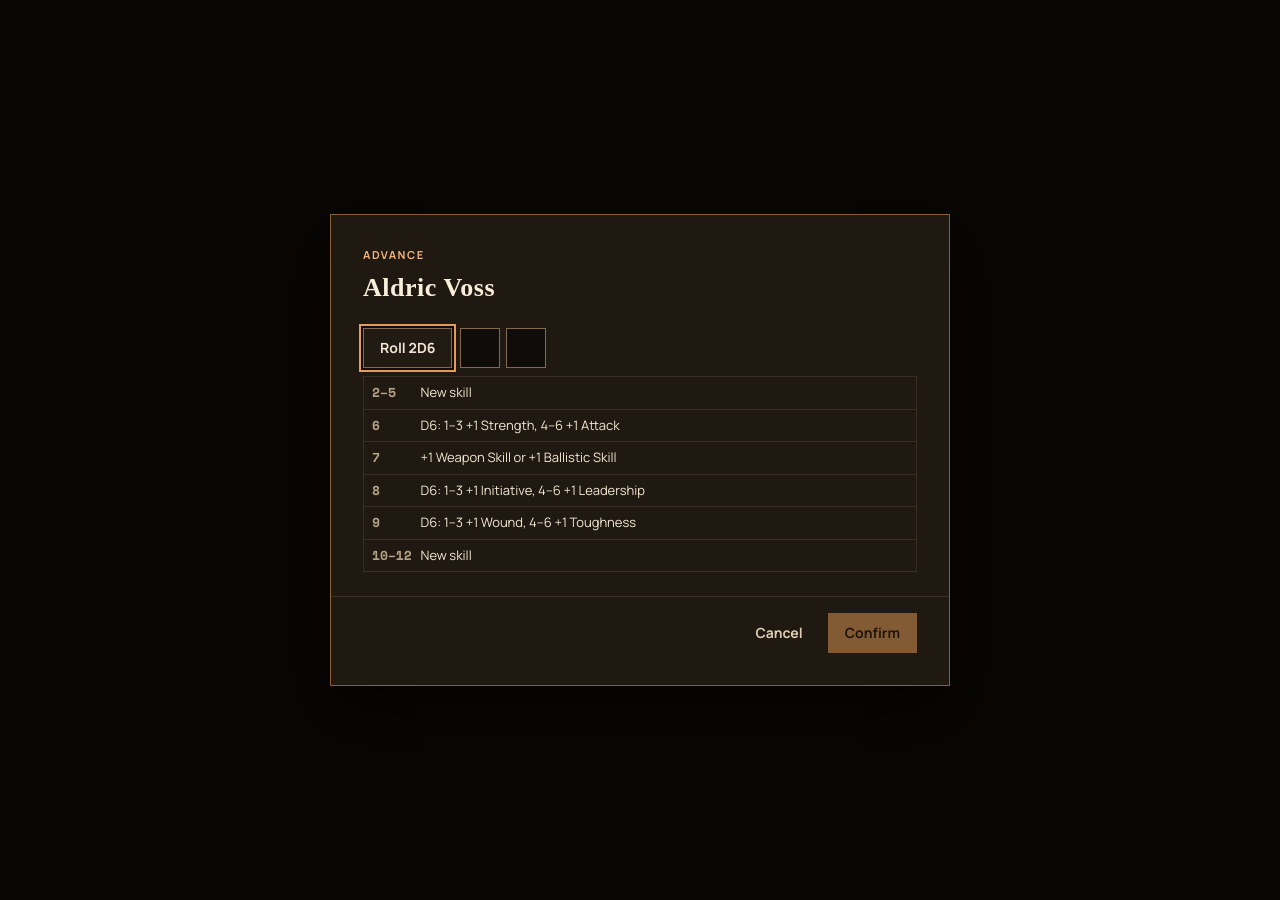
Scenario: An advance on a written stat › shows the whole written value before and after, and that only its first number goes up
The width and height of the screenshot is (1280, 900).
Type "3" into the field named "First D6 rolled" at x=480, y=348, box [460, 328, 500, 368]
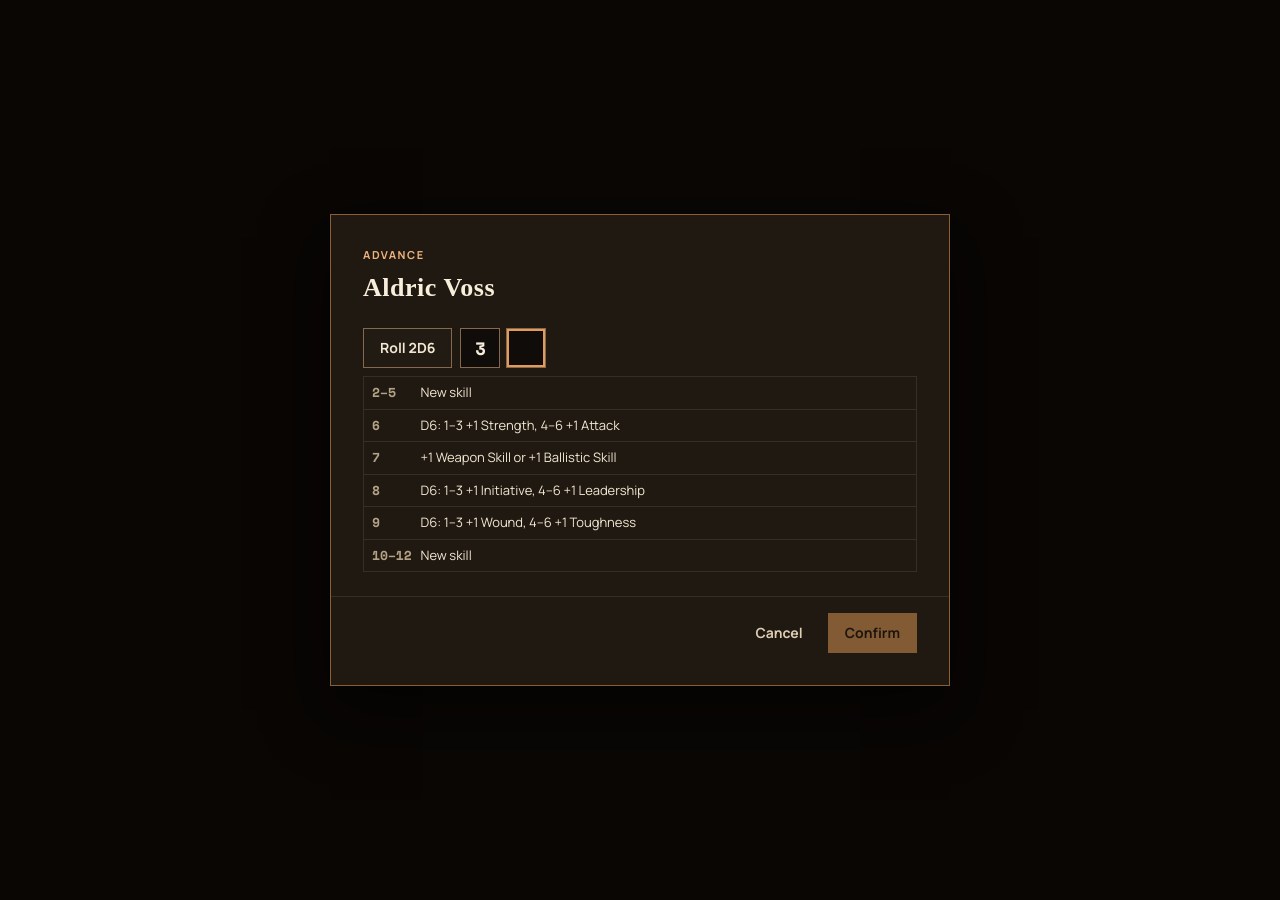
Type keys "3"
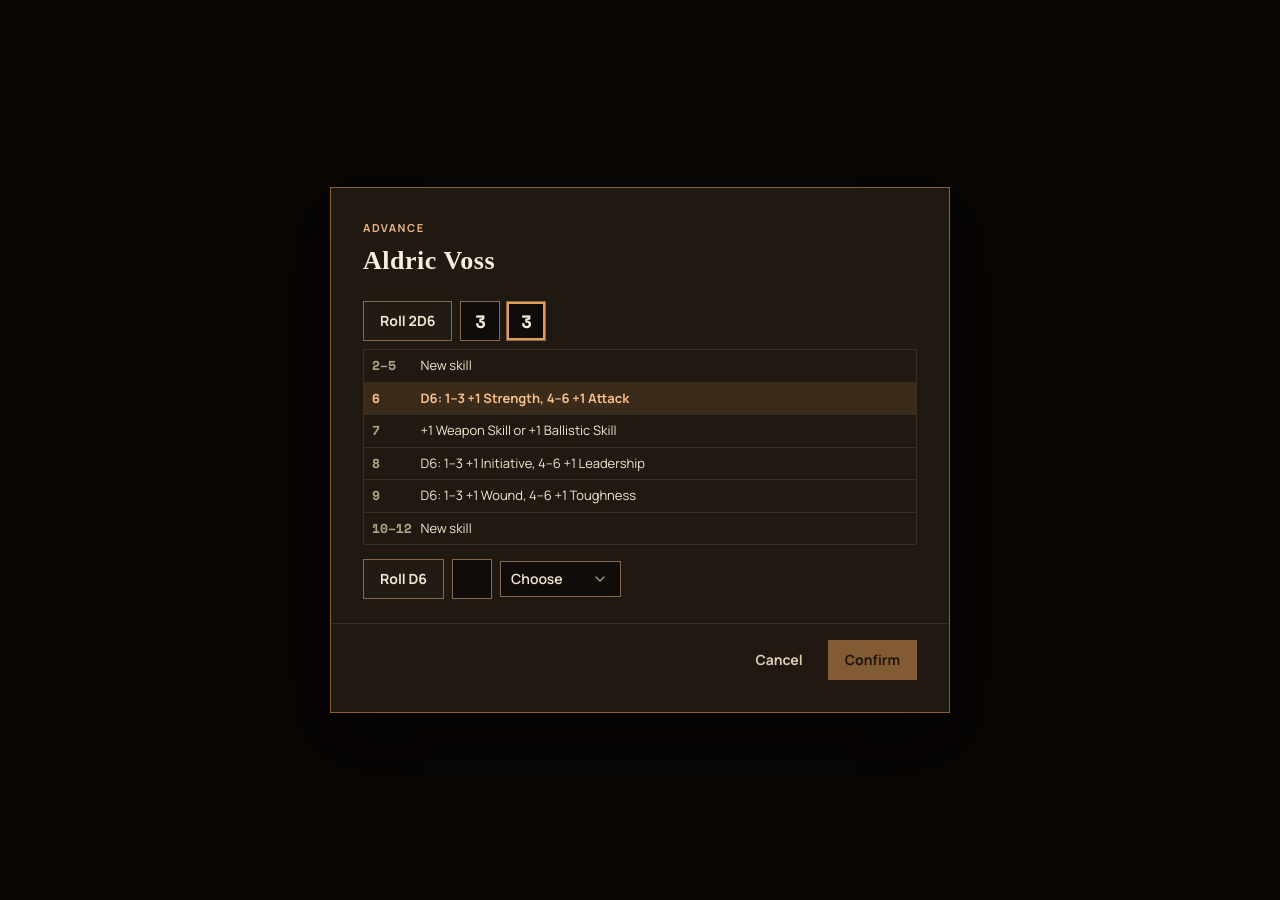
Type "5" into the field named "D6 rolled" at x=472, y=579, box [452, 559, 492, 599]
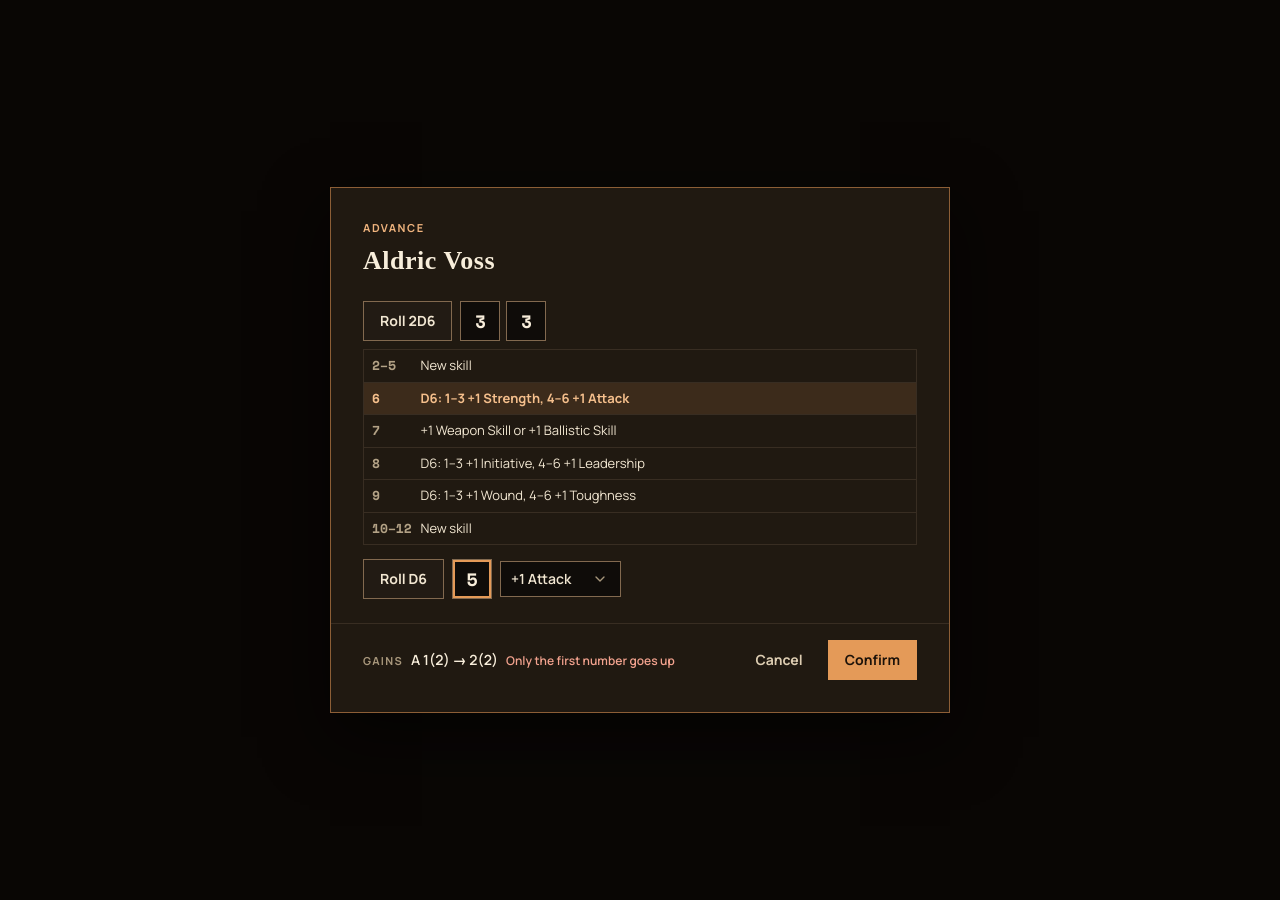
Expected: the text "Gains A 1(2) → 2(2) Only the first number goes up" is shown, [363, 650, 675, 670]
Expected: the text "Only the first number goes up" is shown, [506, 652, 675, 668]
